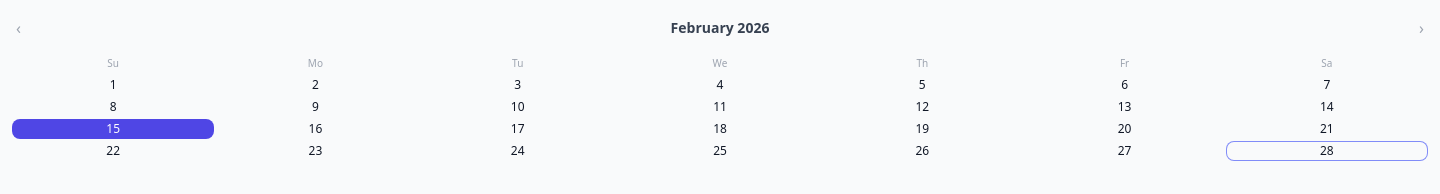
Test: MiniCalendar › navigates to next month when › is clicked
This screenshot has width=1440, height=194.
Click the button "›".
click(1422, 28)  # box [1415, 12, 1428, 44]
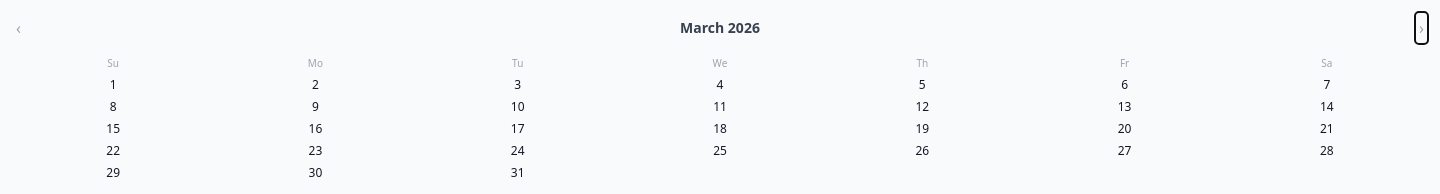
Now the text "February 2026" is gone
